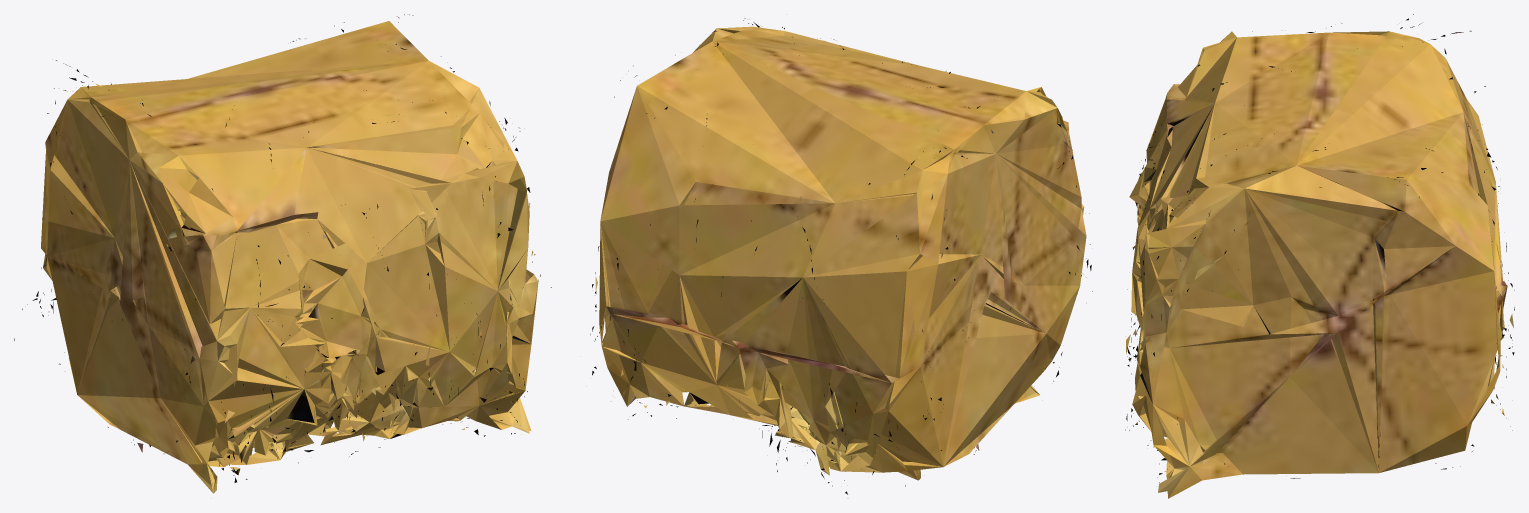
Rendered from hay_bale_yellow_large_lod0.glb.
3 views of the same model, side by side, from view 1: azimuth 30°, elevation 25°; view 2: azimuth 150°, elevation 25°; view 3: azimuth 270°, elevation 25° (orthographic). The views are drawn at different scales.
Parts seen in each view (by area): view 1: hay_bale_yellow_large_lod0; view 2: hay_bale_yellow_large_lod0; view 3: hay_bale_yellow_large_lod0.
Part boxes in pixels (x1,y1,x2,y2): hay_bale_yellow_large_lod0: (14, 14, 551, 493); hay_bale_yellow_large_lod0: (590, 18, 1092, 494); hay_bale_yellow_large_lod0: (1125, 14, 1514, 498).
Size of the model in its own units: 1.08 by 1.03 by 1.09.
1 material, 1 textured.
